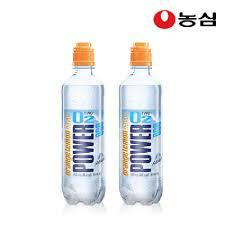powerO2_orange: (58, 40, 111, 209), (114, 41, 167, 207)
